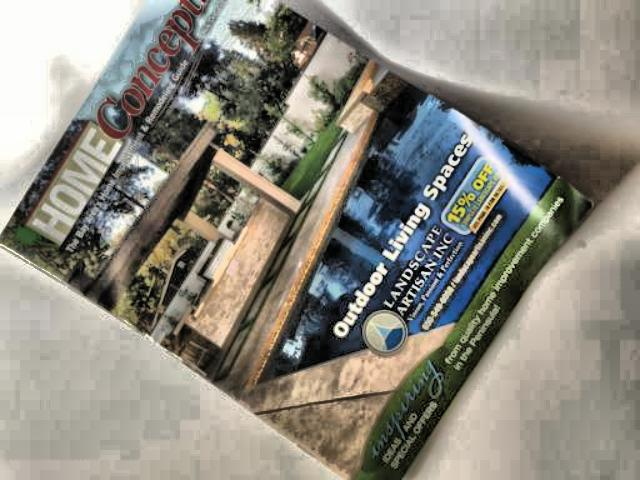Paper: (17, 0, 578, 480)
